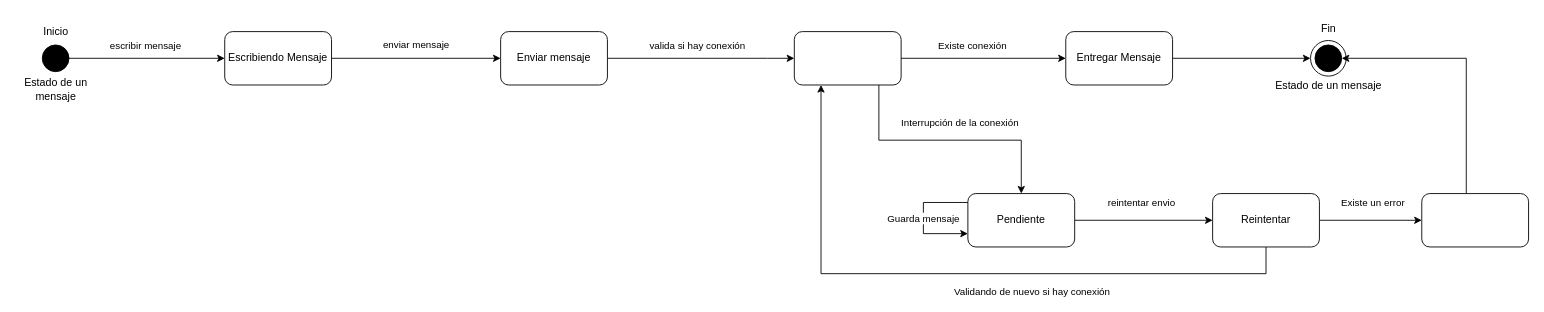
Some shapes in this 1544 by 312 pixel diagram are drawn without their labels. The shapes that lost their labels are listed below. From the top down, each one's centre as x and y in pixels, then its label:
the point at 847,58: Validando conexión
the point at 1475,220: Error
